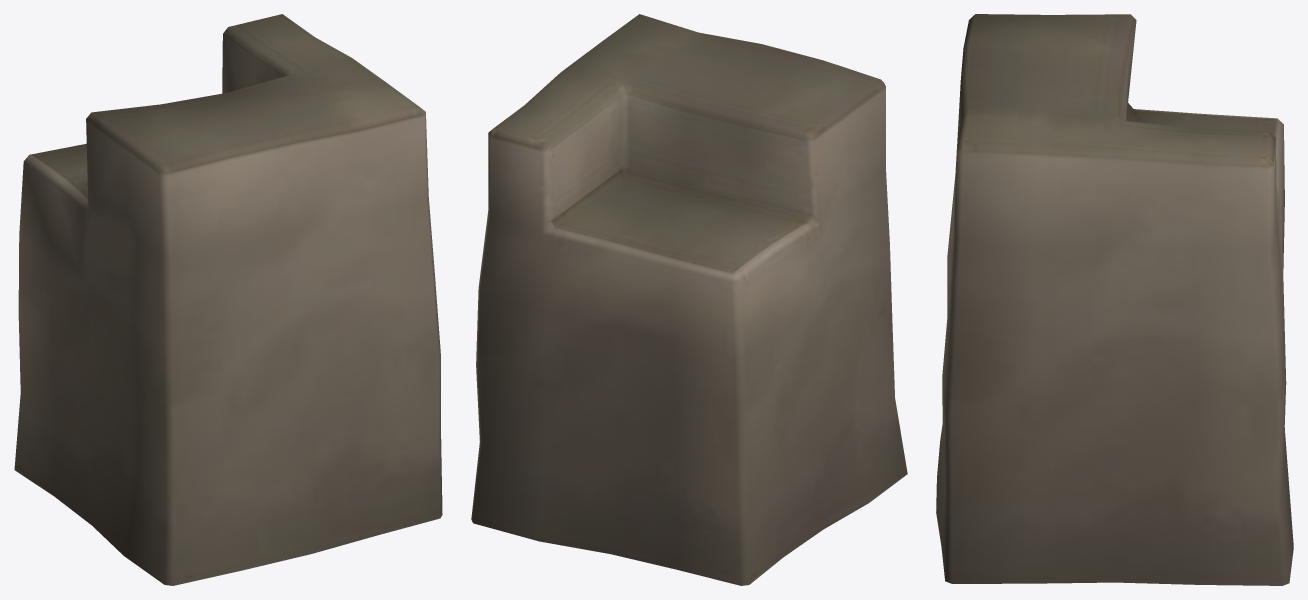
File: MSH_Building_013.glb
The picture shows the model from 3 angles, left to right: view 1: azimuth 30°, elevation 25°; view 2: azimuth 150°, elevation 25°; view 3: azimuth 270°, elevation 25°; orthographic projection. The views are drawn at different scales.
Visible parts, largest first — view 1: Base.007; view 2: Base.007; view 3: Base.007.
Part boxes in pixels (<box>): Base.007: <box>14,14,442,585</box>; Base.007: <box>471,14,907,585</box>; Base.007: <box>936,14,1293,585</box>.
Bounding box in the file's own units: 5.31 × 7.22 × 5.39.
1 material, 1 textured.
